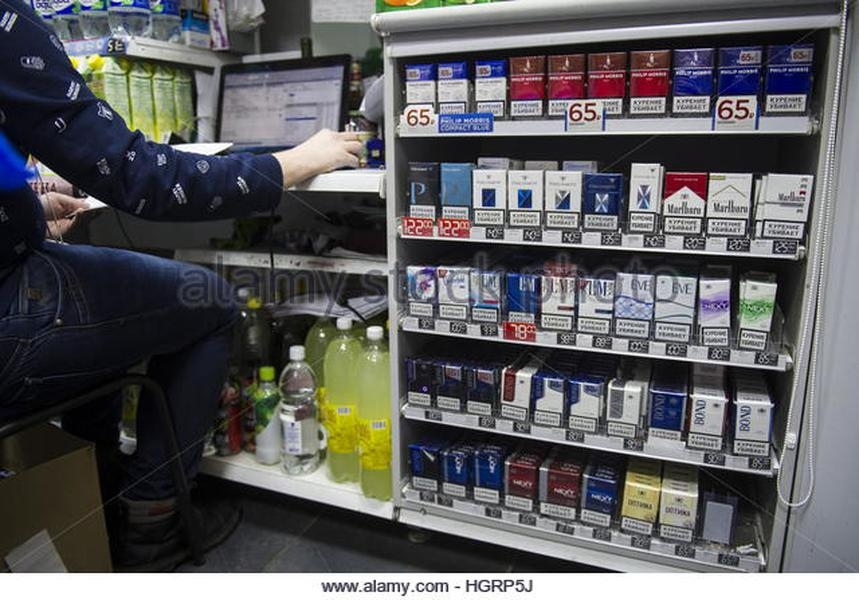marlboro_gold: (708, 176, 748, 237)
marlboro_red: (666, 174, 703, 234)
